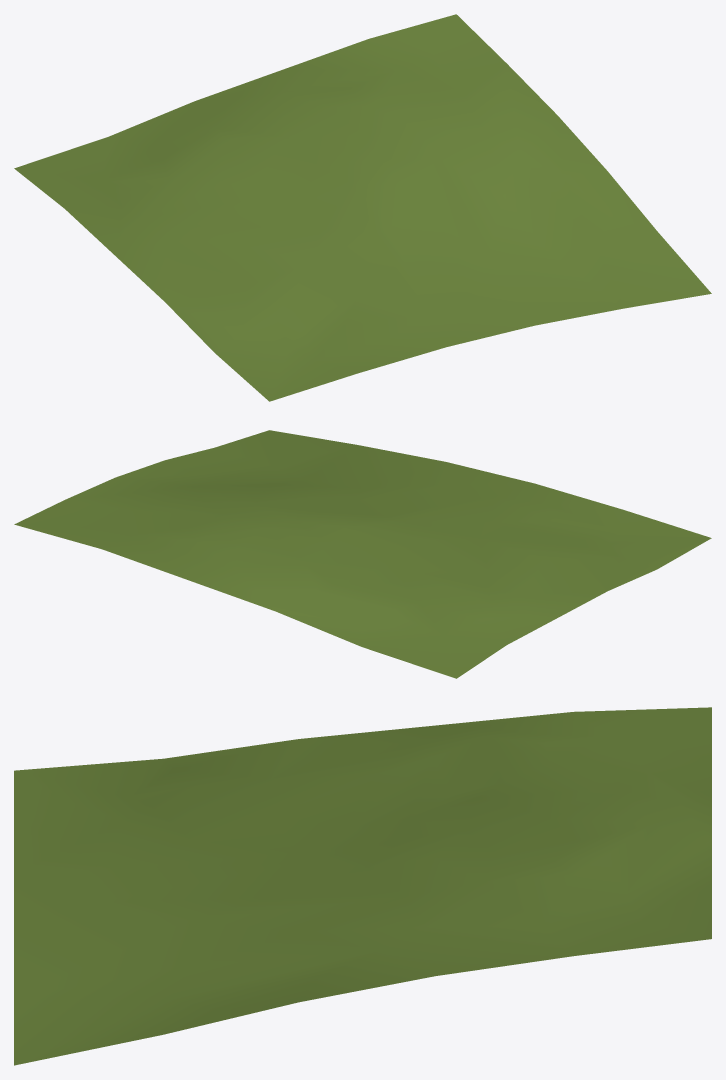
The model's file is rpgpp_ag_terrain_hill_01e_10x10m_1-2-0-1m.fbx.
3 views of the same model, one above another, from view 1: azimuth 30°, elevation 25°; view 2: azimuth 150°, elevation 25°; view 3: azimuth 270°, elevation 25° (orthographic). The views are drawn at different scales.
Parts seen in each view (by area): view 1: rpgpp_ag_terrain_hill_01e_10x10m_1-2-0-1m; view 2: rpgpp_ag_terrain_hill_01e_10x10m_1-2-0-1m; view 3: rpgpp_ag_terrain_hill_01e_10x10m_1-2-0-1m.
Part boxes in pixels (<box>): rpgpp_ag_terrain_hill_01e_10x10m_1-2-0-1m: <box>14,14,711,401</box>; rpgpp_ag_terrain_hill_01e_10x10m_1-2-0-1m: <box>14,430,711,678</box>; rpgpp_ag_terrain_hill_01e_10x10m_1-2-0-1m: <box>14,707,711,1065</box>.
Size of the model in its own units: 10 by 2 by 10.
